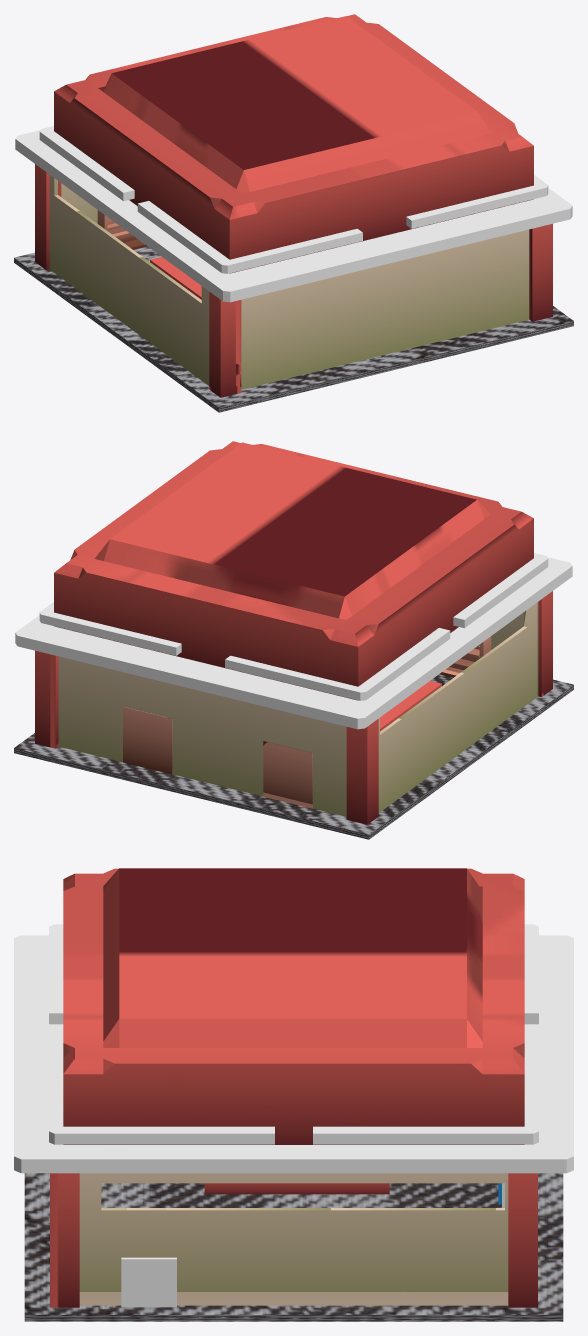
Rendered from Electronic Store.glb.
The picture shows the model from 3 angles, top to bottom: view 1: azimuth 30°, elevation 25°; view 2: azimuth 150°, elevation 25°; view 3: azimuth 270°, elevation 25°; orthographic projection. The views are drawn at different scales.
Parts seen in each view (by area): view 1: Cube.004, Cube.006, Cube.002, Cube.005, Cube, Cube.003, Cube.001, Cube.010, Cube.013; view 2: Cube.004, Cube.006, Cube.002, Cube.005, Cube, Cube.003, Cube.001, Cube.014, Cube.013, Cube.010, Cube.012; view 3: Cube.004, Cube.005, Cube.002, Cube, Cube.003, Cube.001, Plane, Cube.009.
Boxes of the visible parts, left/top/right/bottom form: Cube.004: left=54, top=14, right=533, bottom=273; Cube.006: left=61, top=183, right=529, bottom=389; Cube.002: left=15, top=130, right=572, bottom=302; Cube.005: left=49, top=175, right=209, bottom=385; Cube: left=14, top=246, right=573, bottom=412; Cube.003: left=39, top=126, right=548, bottom=273; Cube.001: left=35, top=164, right=552, bottom=397; Cube.010: left=150, top=257, right=201, bottom=299; Cube.013: left=97, top=210, right=147, bottom=249; Cube.004: left=54, top=441, right=533, bottom=700; Cube.006: left=58, top=612, right=523, bottom=816; Cube.002: left=15, top=557, right=572, bottom=729; Cube.005: left=378, top=602, right=538, bottom=812; Cube: left=14, top=674, right=573, bottom=839; Cube.003: left=39, top=553, right=548, bottom=700; Cube.001: left=35, top=591, right=552, bottom=824; Cube.014: left=123, top=707, right=172, bottom=774; Cube.013: left=263, top=741, right=312, bottom=808; Cube.010: left=380, top=681, right=441, bottom=731; Cube.012: left=439, top=636, right=491, bottom=677; Cube.004: left=63, top=868, right=524, bottom=1144; Cube.005: left=79, top=1173, right=508, bottom=1305; Cube.002: left=14, top=935, right=573, bottom=1173; Cube: left=24, top=1173, right=563, bottom=1321; Cube.003: left=49, top=924, right=538, bottom=1144; Cube.001: left=50, top=1173, right=537, bottom=1307; Plane: left=121, top=1257, right=176, bottom=1307; Cube.009: left=204, top=1183, right=389, bottom=1194.
Size of the model in its own units: 70 by 37.96 by 72.78.
Materials: 10 (5 with a texture image).
